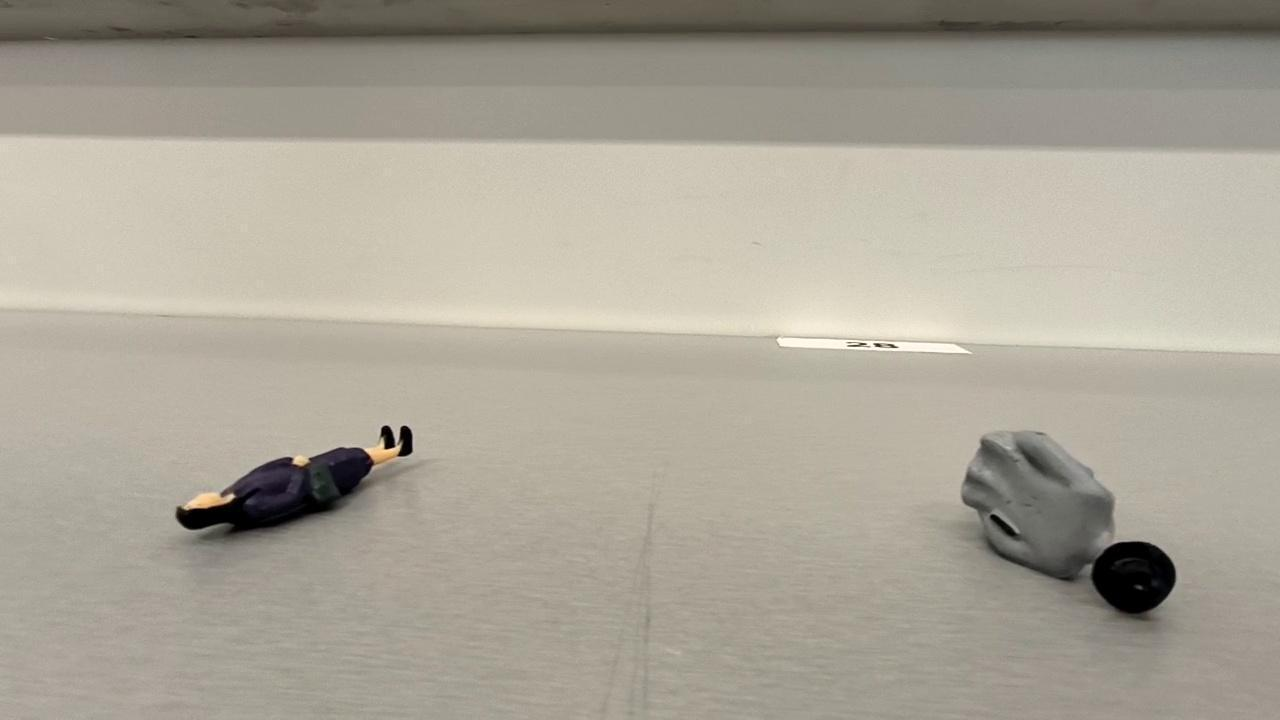human: (963, 426, 1176, 616), (179, 418, 419, 534)
